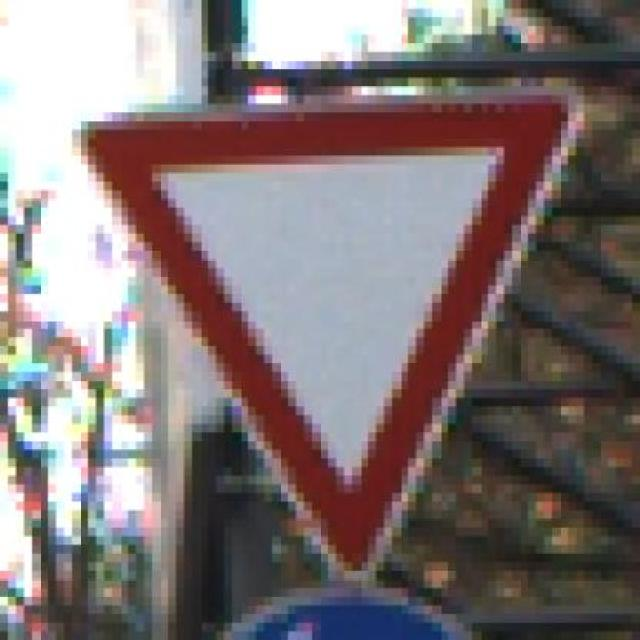Give Way: (48, 77, 624, 597)
